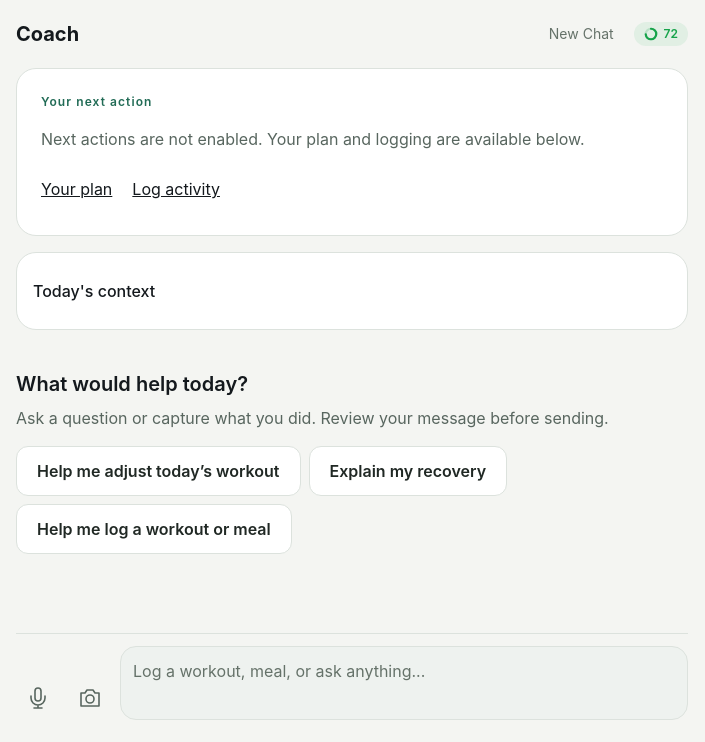
V2Page › layout › prefills contextual prompts without sending or saving
Click the button "Explain my recovery": (408, 471) [308,446,507,496]
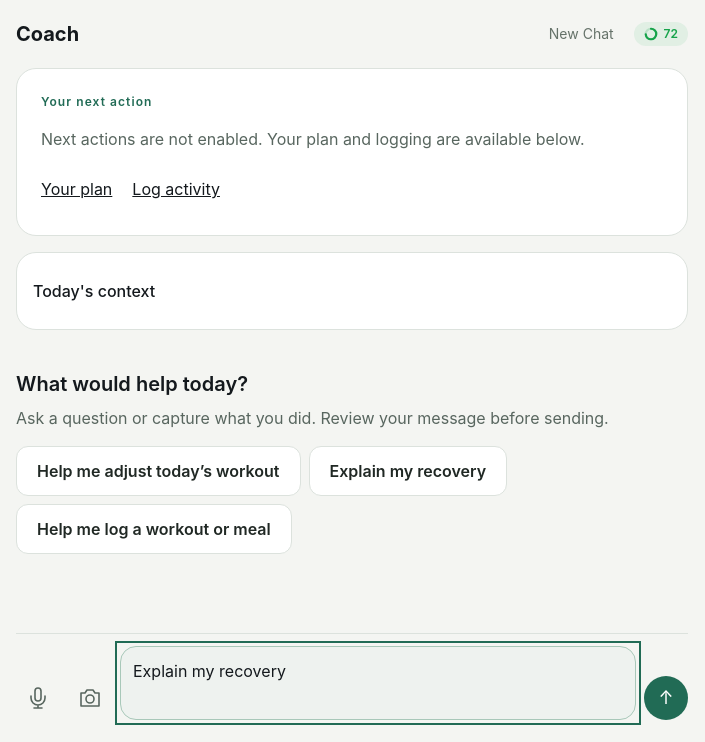
Check: the text box named "Message input" holds "Explain my recovery", box [121,647,635,719]
